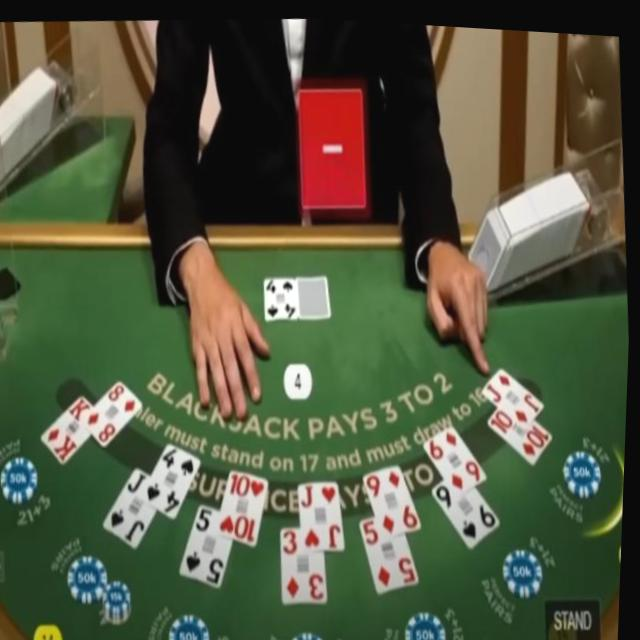Card-10: (221, 466, 271, 543), (490, 401, 555, 458)
Card-3: (284, 523, 330, 600)
Card-4: (143, 439, 203, 518), (266, 273, 299, 316)
Card-5: (362, 511, 423, 590), (184, 499, 236, 586)
Card-6: (425, 419, 490, 492)
Card-8: (83, 377, 145, 446)
Card-9: (435, 475, 504, 543), (366, 459, 425, 535)
Card-J: (107, 463, 159, 547), (484, 360, 547, 422), (301, 477, 348, 550)
Card-K: (43, 392, 95, 463)
